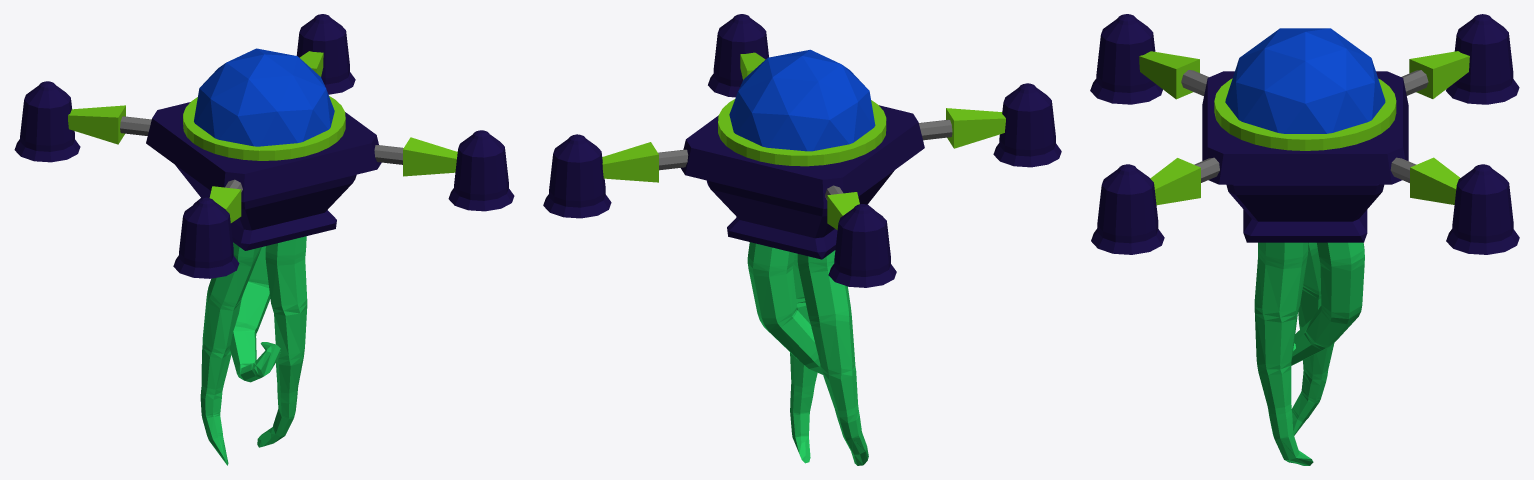
The model's file is jellyfishBoss_7.obj.
3 renders of one model, left to right at view 1: azimuth 30°, elevation 25°; view 2: azimuth 150°, elevation 25°; view 3: azimuth 270°, elevation 25°, orthographic. The views are drawn at different scales.
Visible parts, largest first — view 1: Base_Cube.001, Head_Icosphere, Cylinder.002_Cylinder.001, Cylinder.003_Cylinder.002, Rocket_1_Cylinder.003, Rocket_2_Cylinder.014, Rocket_3_Cylinder.016, Cylinder.001_Cylinder.012, Cylinder, Rocket_4_Cylinder.018, B_Arm_1_Cube.002, B_Arm_3_Cube.011 (+2 smaller); view 2: Base_Cube.001, Head_Icosphere, Cylinder.003_Cylinder.002, Cylinder.001_Cylinder.012, Rocket_3_Cylinder.016, Rocket_4_Cylinder.018, Rocket_2_Cylinder.014, Cylinder, Rocket_1_Cylinder.003, Cylinder.002_Cylinder.001, B_Arm_4_Cube.012, B_Arm_2_Cube.010 (+3 smaller); view 3: Base_Cube.001, Head_Icosphere, Cylinder.002_Cylinder.001, Cylinder.001_Cylinder.012, Rocket_1_Cylinder.003, Rocket_4_Cylinder.018, Rocket_3_Cylinder.016, Rocket_2_Cylinder.014, Cylinder, Cylinder.003_Cylinder.002, B_Arm_2_Cube.010, B_Arm_3_Cube.011 (+4 smaller).
Boxes of the visible parts, bbox=[...] form: Base_Cube.001: bbox=[146, 102, 381, 250]; Head_Icosphere: bbox=[194, 48, 334, 146]; Cylinder.002_Cylinder.001: bbox=[257, 236, 307, 447]; Cylinder.003_Cylinder.002: bbox=[200, 242, 261, 465]; Rocket_1_Cylinder.003: bbox=[448, 130, 514, 211]; Rocket_2_Cylinder.014: bbox=[173, 197, 239, 278]; Rocket_3_Cylinder.016: bbox=[14, 81, 80, 162]; Cylinder.001_Cylinder.012: bbox=[229, 246, 280, 382]; Cylinder: bbox=[183, 96, 345, 160]; Rocket_4_Cylinder.018: bbox=[296, 14, 355, 94]; B_Arm_1_Cube.002: bbox=[403, 137, 457, 176]; B_Arm_3_Cube.011: bbox=[68, 105, 125, 144]; Base_Cube.001: bbox=[681, 105, 924, 259]; Head_Icosphere: bbox=[729, 49, 875, 151]; Cylinder.003_Cylinder.002: bbox=[797, 250, 868, 465]; Cylinder.001_Cylinder.012: bbox=[747, 242, 822, 374]; Rocket_3_Cylinder.016: bbox=[828, 204, 896, 287]; Rocket_4_Cylinder.018: bbox=[543, 134, 611, 218]; Rocket_2_Cylinder.014: bbox=[993, 83, 1061, 167]; Cylinder: bbox=[718, 99, 886, 166]; Rocket_1_Cylinder.003: bbox=[708, 14, 768, 97]; Cylinder.002_Cylinder.001: bbox=[790, 253, 817, 463]; B_Arm_4_Cube.012: bbox=[602, 142, 658, 182]; B_Arm_2_Cube.010: bbox=[946, 108, 1005, 148]; Base_Cube.001: bbox=[1202, 71, 1408, 242]; Head_Icosphere: bbox=[1225, 28, 1385, 133]; Cylinder.002_Cylinder.001: bbox=[1254, 242, 1313, 465]; Cylinder.001_Cylinder.012: bbox=[1291, 242, 1364, 365]; Rocket_1_Cylinder.003: bbox=[1091, 164, 1164, 254]; Rocket_4_Cylinder.018: bbox=[1446, 164, 1519, 254]; Rocket_3_Cylinder.016: bbox=[1446, 14, 1519, 104]; Rocket_2_Cylinder.014: bbox=[1090, 14, 1162, 104]; Cylinder: bbox=[1214, 78, 1396, 150]; Cylinder.003_Cylinder.002: bbox=[1291, 242, 1334, 435]; B_Arm_2_Cube.010: bbox=[1139, 51, 1199, 99]; B_Arm_3_Cube.011: bbox=[1409, 51, 1469, 98].
Size of the model in its own units: 14.77 by 16.61 by 14.77.
